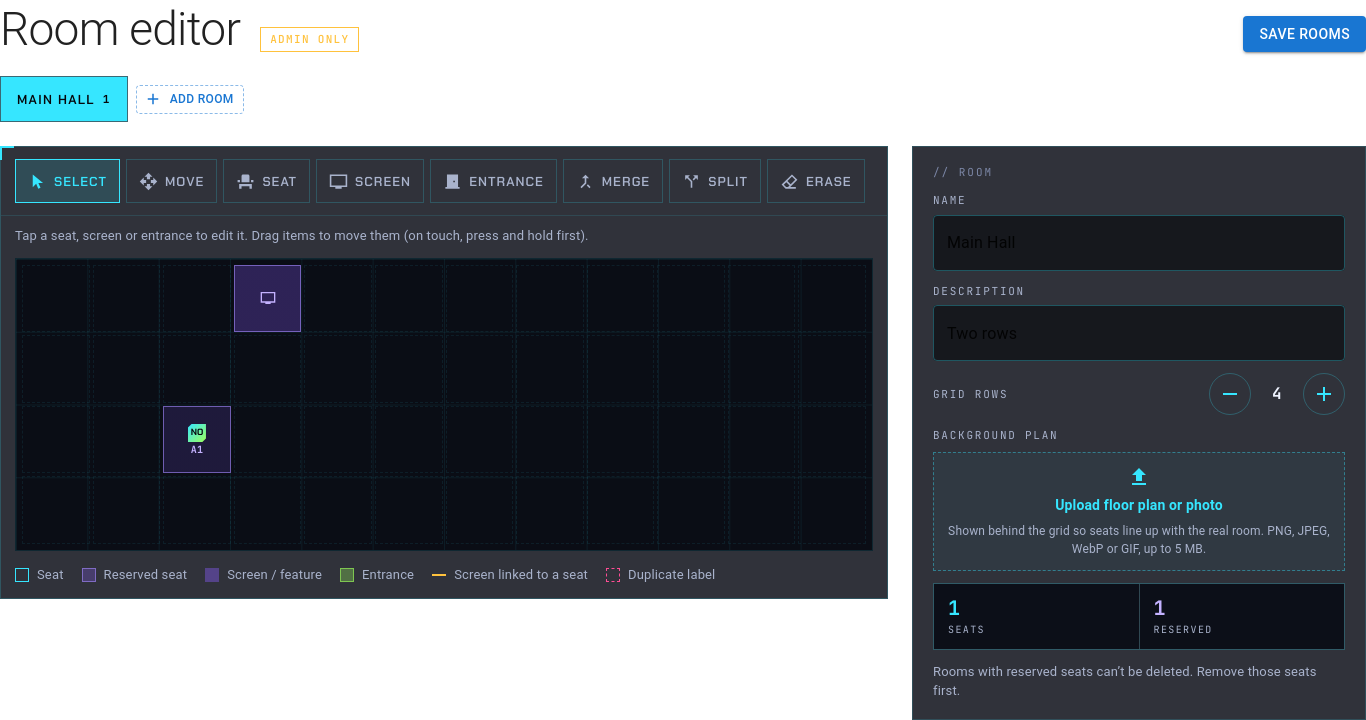
Scenario: RoomEditor › confirms before removing a reserved seat and then releases it on save
The width and height of the screenshot is (1366, 720).
Click the cell named "Seat A1". click: (197, 440)
box: [163, 406, 231, 473]
(page scrolled)
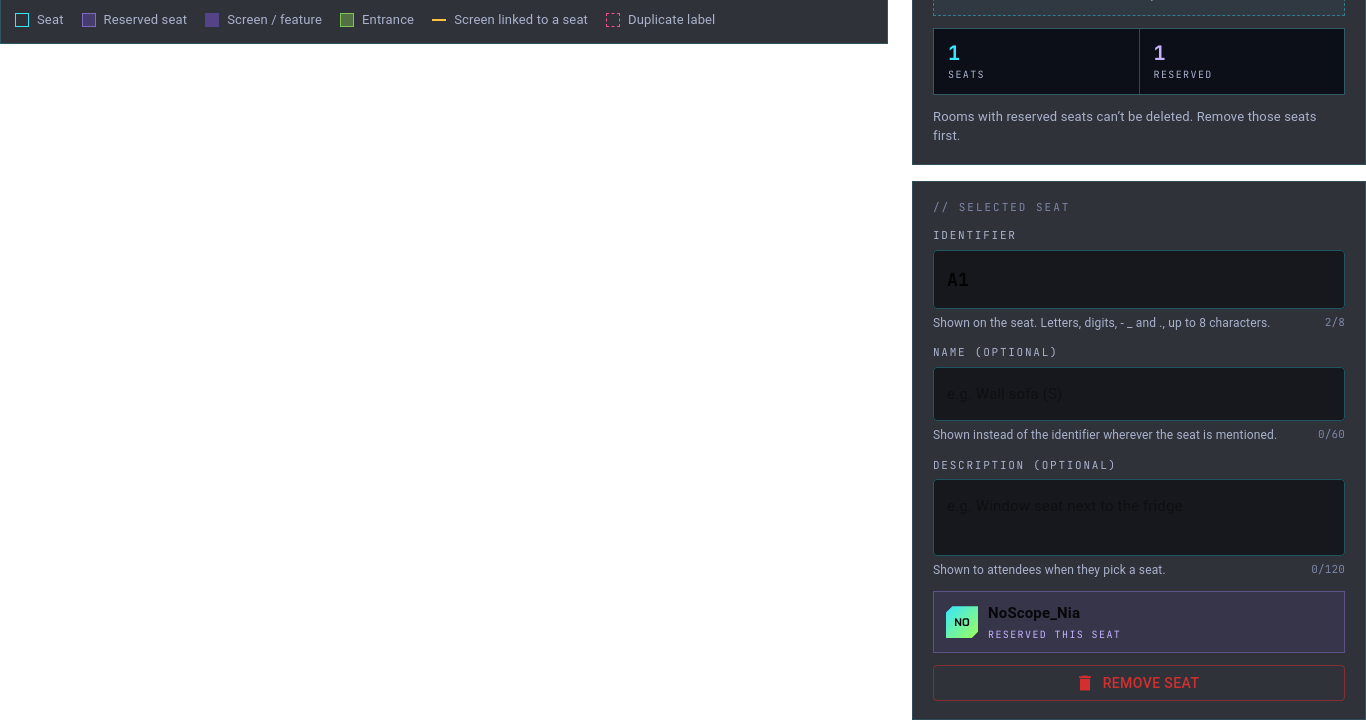
Click the button "Remove seat". click: (1139, 683)
box: [933, 665, 1345, 701]
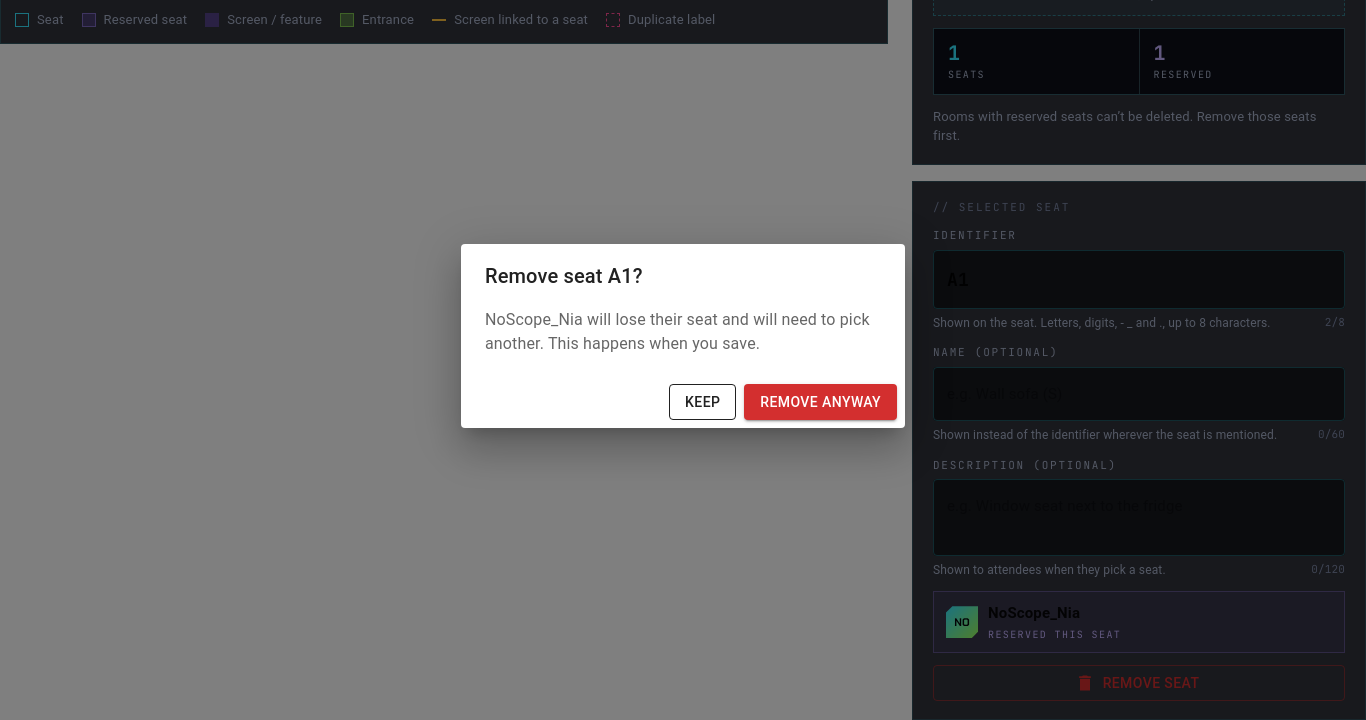
Expected: the dialog shows "NoScope_Nia will lose their seat and will need to pick another", [485, 310, 870, 353]
Click the button "Remove anyway". click: (821, 402)
box: [744, 384, 897, 420]
(page scrolled)
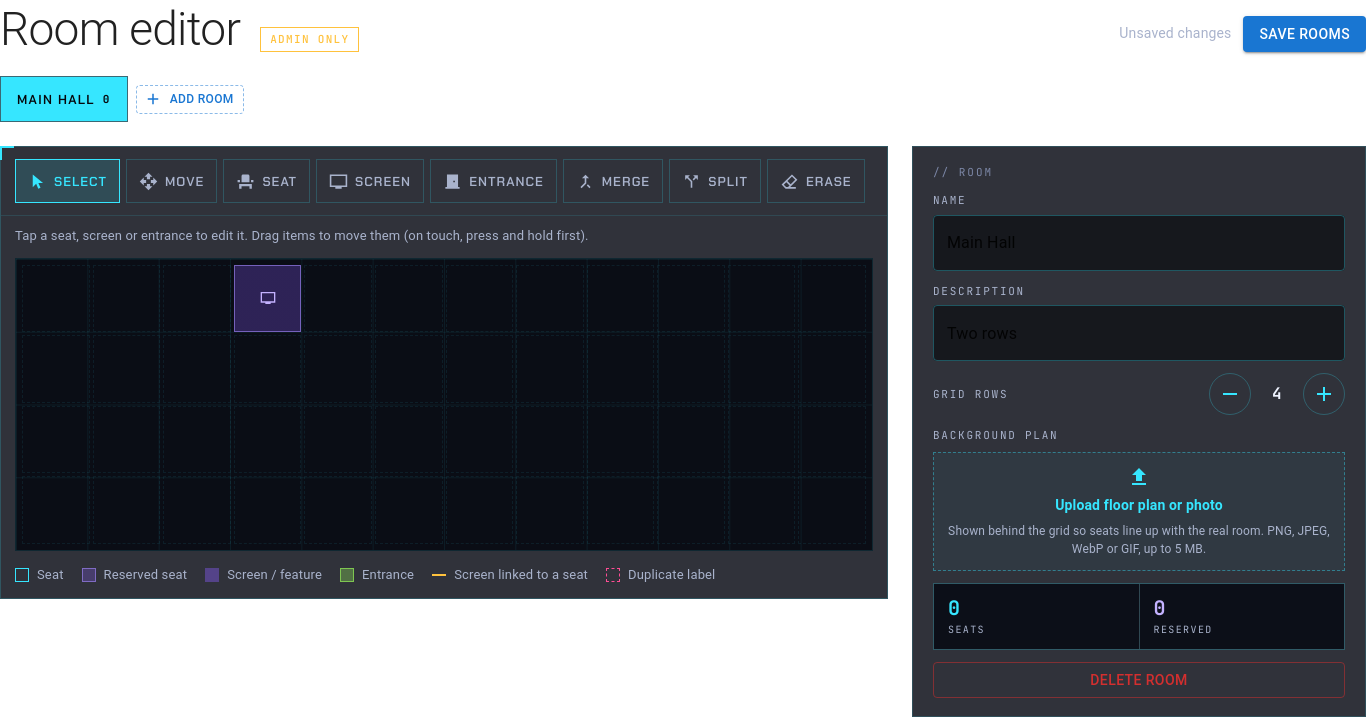
Click the button "Save rooms". click: (1305, 34)
box: [1244, 16, 1365, 52]
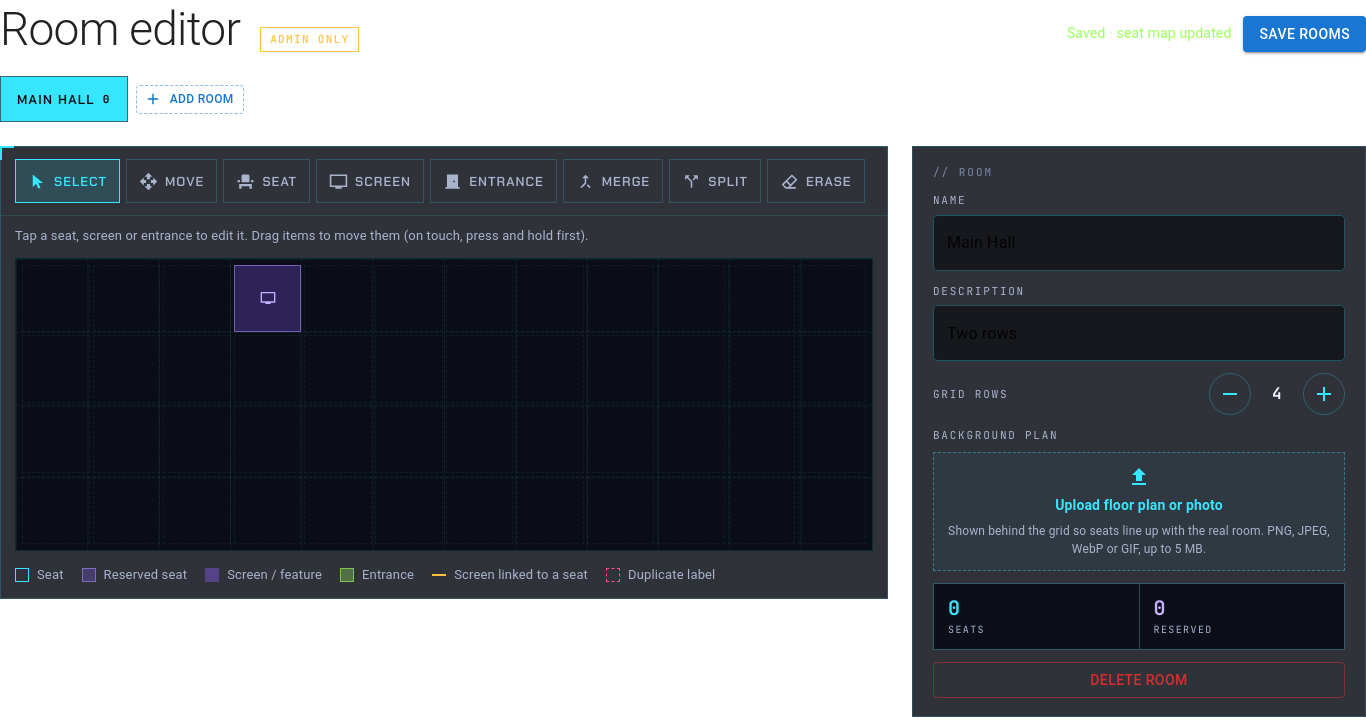
Expected: the text "Saved · seat map updated" is shown, [1067, 23, 1232, 44]
